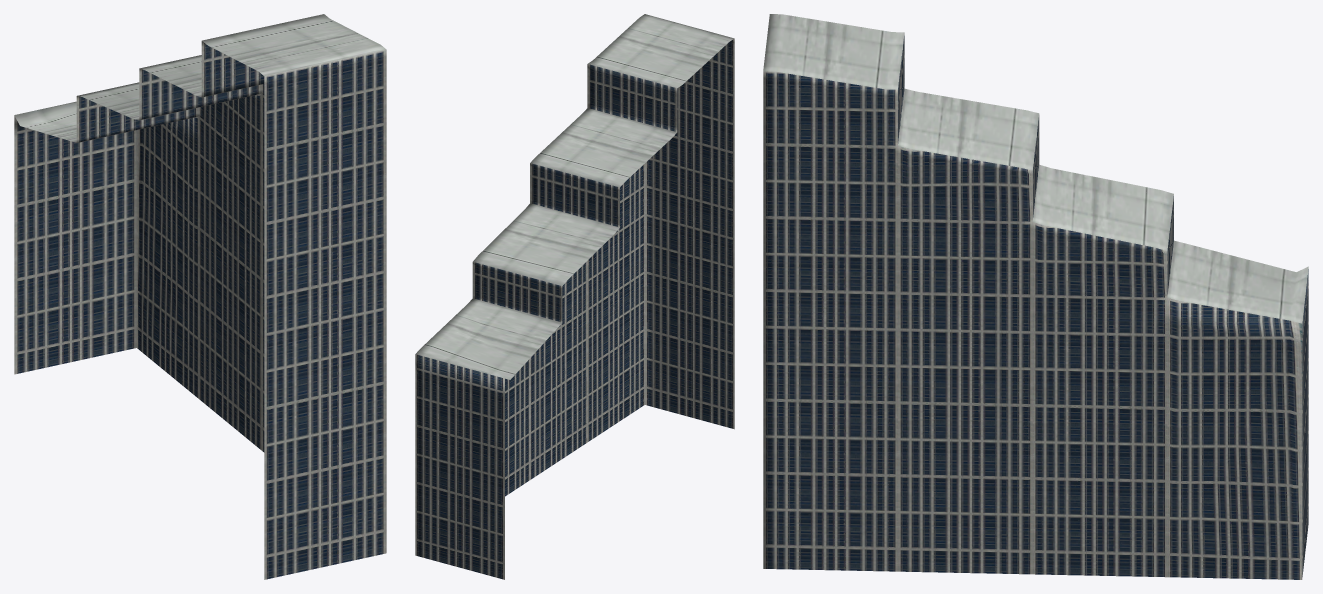
The model's file is 00_03_outside_building_e.dae.
3 views of the same model, side by side, from view 1: azimuth 30°, elevation 25°; view 2: azimuth 150°, elevation 25°; view 3: azimuth 270°, elevation 25° (orthographic). The views are drawn at different scales.
Visible parts, largest first — view 1: Be-Pivot; view 2: Be-Pivot; view 3: Be-Pivot.
Boxes of the visible parts, x1,y1,x2,y2 form: Be-Pivot: [14, 14, 386, 579]; Be-Pivot: [415, 14, 734, 579]; Be-Pivot: [763, 14, 1308, 579].
Size of the model in its own units: 42.63 by 144 by 144.
